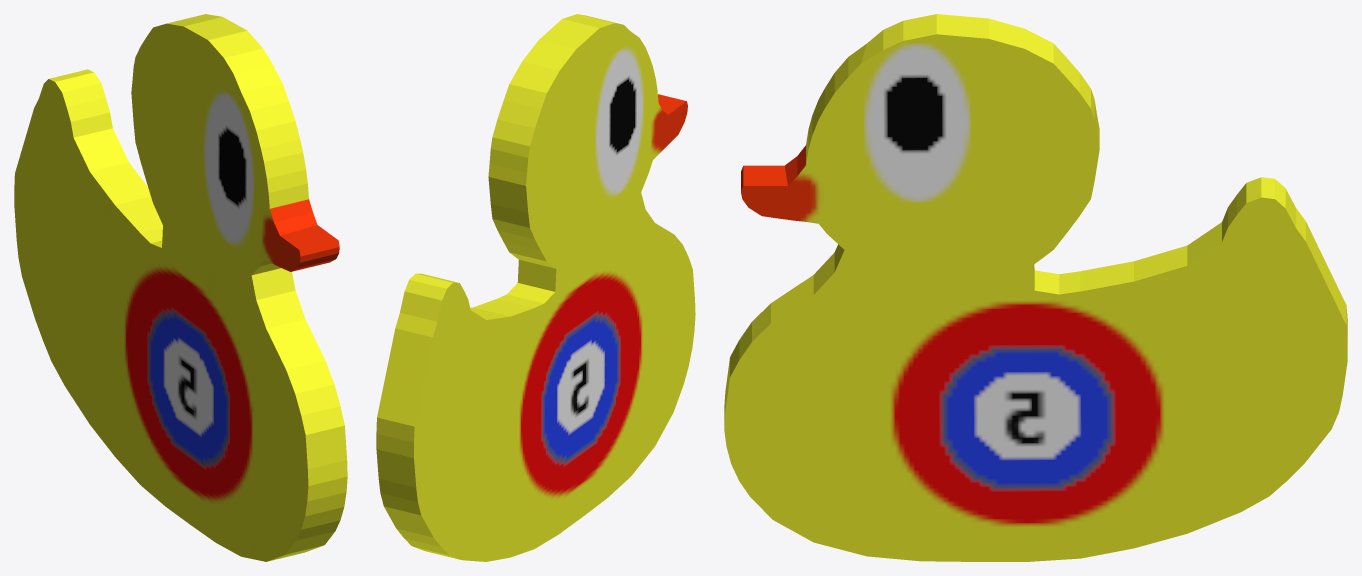
File: nduck.fbx
The picture shows the model from 3 angles, left to right: view 1: azimuth 30°, elevation 25°; view 2: azimuth 150°, elevation 25°; view 3: azimuth 270°, elevation 25°; orthographic projection. The views are drawn at different scales.
Parts seen in each view (by area): view 1: polySurface4; view 2: polySurface4; view 3: polySurface4.
Part boxes in pixels (x1,y1,x2,y2): polySurface4: [14, 14, 347, 561]; polySurface4: [376, 14, 695, 561]; polySurface4: [724, 14, 1347, 561].
Size of the model in its own units: 0.4468 by 5.41 by 5.8.
1 material, 1 textured.
